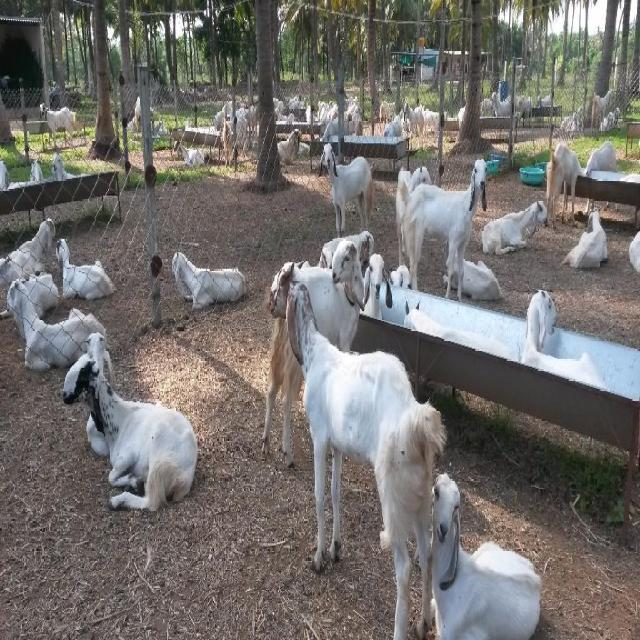Goat: (283, 281, 446, 638), (261, 237, 368, 467), (62, 330, 197, 511), (429, 471, 542, 638), (401, 157, 488, 301), (2, 271, 108, 372), (522, 288, 605, 389), (318, 143, 373, 235), (171, 250, 246, 310), (481, 198, 548, 256), (0, 216, 56, 285), (55, 236, 115, 300), (544, 140, 587, 226), (561, 208, 608, 269)
